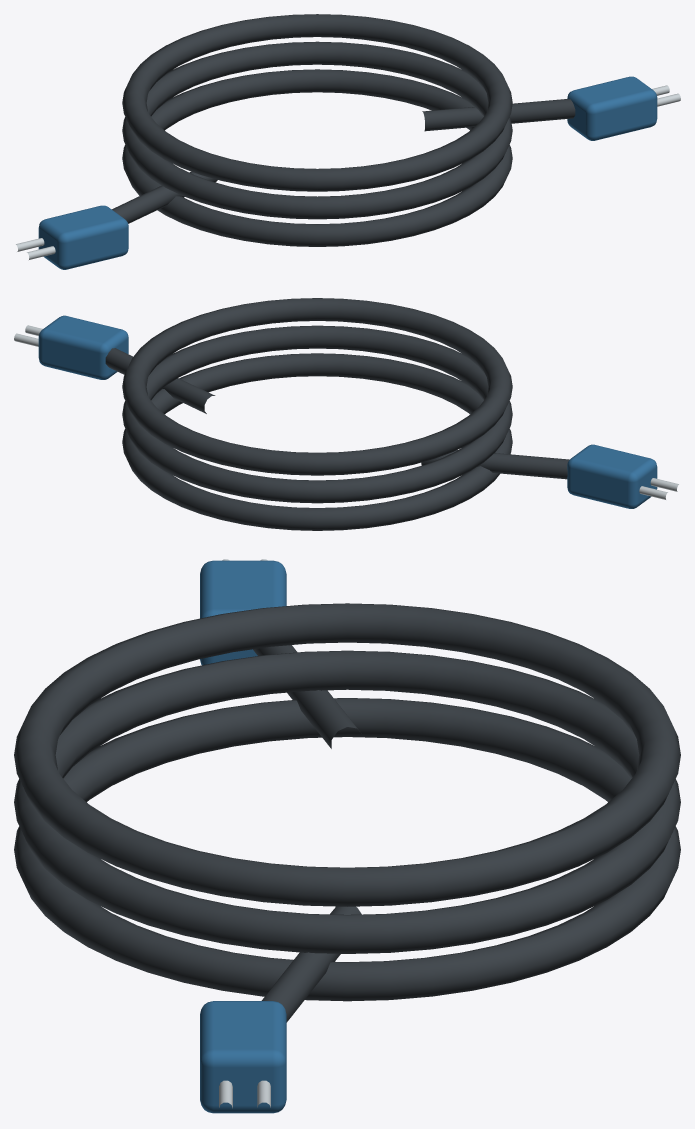
Rendered from fencing-club-and-tournament-piste-body-cord-356b74b5__31224.glb.
3 renders of one model, top to bottom at view 1: azimuth 30°, elevation 25°; view 2: azimuth 150°, elevation 25°; view 3: azimuth 270°, elevation 25°, orthographic. The views are drawn at different scales.
Parts seen in each view (by area): view 1: body-cord; view 2: body-cord; view 3: body-cord.
Boxes of the visible parts, left/top/right/bottom form: body-cord: left=16, top=14, right=680, bottom=269; body-cord: left=14, top=298, right=678, bottom=530; body-cord: left=14, top=559, right=680, bottom=1113.
Bounding box in the file's own units: 0.37 × 0.042 × 0.192.
